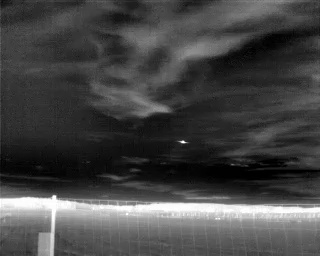AIRPLANE: (177, 138, 190, 146)
